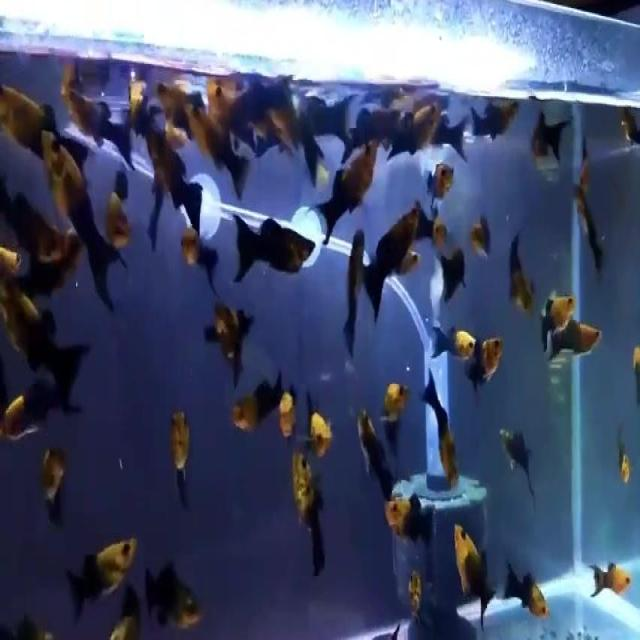PlatyFish: (30, 117, 128, 351), (64, 519, 142, 621), (228, 204, 321, 288), (284, 442, 330, 602), (451, 513, 500, 640), (423, 318, 489, 367)
